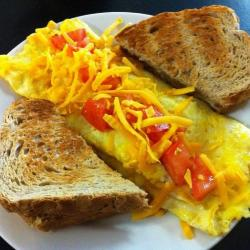bread: (4, 99, 155, 227), (127, 6, 250, 109)
omelette: (4, 22, 249, 228)
